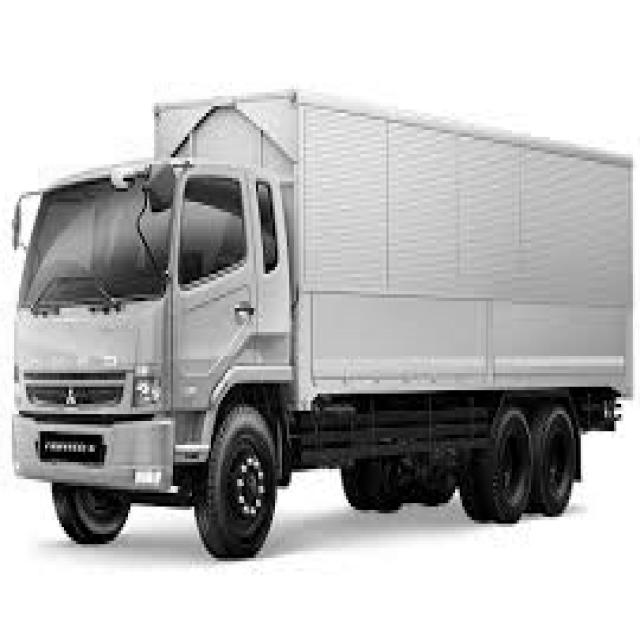truck: (2, 139, 328, 574)
